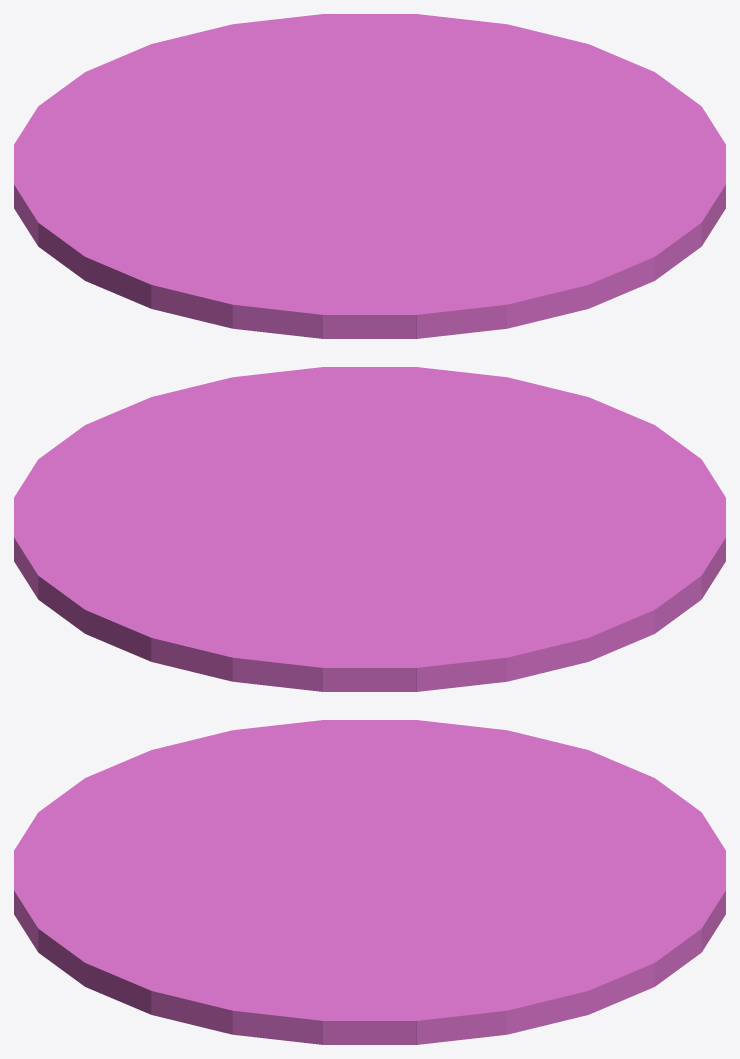
File: osuCircle.dae
3 views of the same model, one above another, from view 1: azimuth 30°, elevation 25°; view 2: azimuth 150°, elevation 25°; view 3: azimuth 270°, elevation 25° (orthographic).
Parts seen in each view (by area): view 1: Cube.020, Cube.018, Cube.016, Cube.014, Cube.023, Cube.013, Cube.015, Cube.012, Cube.017, Cube.022, Cube.019, Cube.021; view 2: Cube.022, Cube.020, Cube.016, Cube.018, Cube.023, Cube.021, Cube.012, Cube.013, Cube.019, Cube.014, Cube.015, Cube.017; view 3: Cube.021, Cube.014, Cube.018, Cube.017, Cube.015, Cube.016, Cube.023, Cube.013, Cube.022, Cube.019, Cube.020, Cube.012.
Part boxes in pixels (x1,y1,x2,y2): Cube.020: [14, 144, 725, 184]; Cube.018: [38, 72, 700, 280]; Cube.016: [151, 24, 587, 328]; Cube.014: [323, 14, 416, 338]; Cube.023: [85, 44, 654, 308]; Cube.013: [233, 14, 507, 338]; Cube.015: [232, 14, 506, 338]; Cube.012: [152, 24, 588, 328]; Cube.017: [85, 44, 654, 308]; Cube.022: [38, 72, 701, 280]; Cube.019: [14, 106, 725, 245]; Cube.021: [14, 106, 725, 245]; Cube.022: [323, 367, 416, 691]; Cube.020: [152, 377, 588, 681]; Cube.016: [14, 497, 725, 537]; Cube.018: [38, 425, 701, 633]; Cube.023: [232, 367, 506, 691]; Cube.021: [233, 367, 507, 691]; Cube.012: [151, 377, 587, 681]; Cube.013: [85, 397, 654, 661]; Cube.019: [85, 397, 654, 661]; Cube.014: [38, 425, 700, 633]; Cube.015: [14, 459, 725, 598]; Cube.017: [14, 459, 725, 598]; Cube.021: [85, 750, 654, 1014]; Cube.014: [38, 778, 701, 986]; Cube.018: [323, 720, 416, 1044]; Cube.017: [233, 720, 507, 1044]; Cube.015: [85, 750, 654, 1014]; Cube.016: [152, 730, 588, 1034]; Cube.023: [14, 812, 725, 951]; Cube.013: [14, 812, 725, 951]; Cube.022: [38, 778, 700, 986]; Cube.019: [232, 720, 506, 1044]; Cube.020: [151, 730, 587, 1034]; Cube.012: [14, 850, 725, 890].
Size of the model in its own units: 7.32 by 7.32 by 0.2731.
